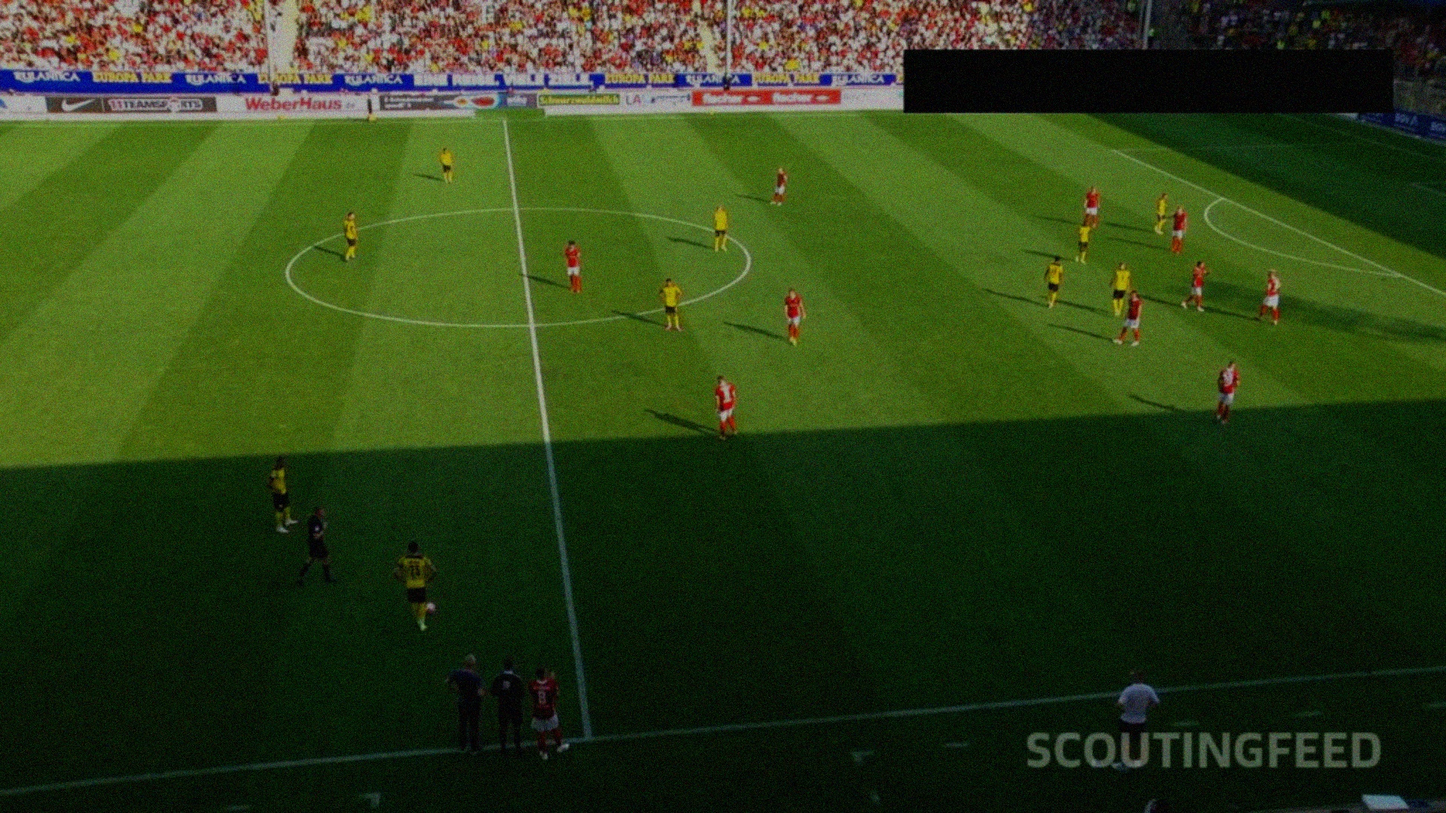ball: (424, 599, 436, 617)
player: (395, 539, 437, 635), (267, 454, 299, 531), (1113, 290, 1142, 349), (1217, 358, 1240, 425), (715, 375, 738, 437), (1183, 260, 1211, 310), (1255, 266, 1278, 325), (561, 237, 585, 291), (1042, 255, 1063, 311), (661, 278, 682, 333), (786, 288, 806, 344), (1109, 259, 1129, 314), (1075, 215, 1095, 267), (1168, 205, 1190, 252), (710, 206, 730, 256), (1084, 187, 1103, 233), (343, 212, 360, 260), (438, 150, 458, 188), (1152, 194, 1170, 232), (775, 169, 786, 211)
referee: (293, 504, 336, 585), (364, 93, 378, 124)
